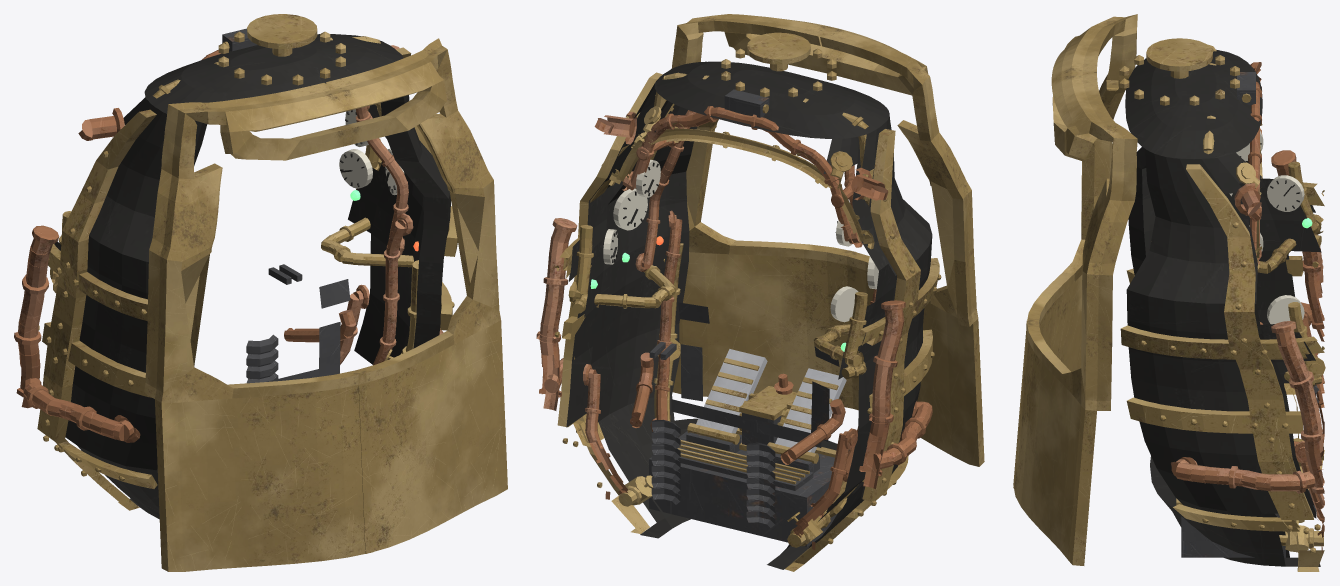
The model's file is cockpit_view.glb.
The picture shows the model from 3 angles, left to right: view 1: azimuth 30°, elevation 25°; view 2: azimuth 150°, elevation 25°; view 3: azimuth 270°, elevation 25°; orthographic projection. The views are drawn at different scales.
Visible parts, largest first — view 1: Screen_Frame.001, Cockpit_Interior; view 2: Cockpit_Interior, Screen_Frame.001; view 3: Cockpit_Interior, Screen_Frame.001.
Boxes of the visible parts, x1=… form: Screen_Frame.001: x1=144, y1=38, x2=507, y2=571; Cockpit_Interior: x1=14, y1=14, x2=457, y2=519; Cockpit_Interior: x1=536, y1=32, x2=941, y2=571; Screen_Frame.001: x1=671, y1=14, x2=984, y2=466; Cockpit_Interior: x1=1119, y1=38, x2=1325, y2=571; Screen_Frame.001: x1=1013, y1=14, x2=1137, y2=565.
Size of the model in its own units: 2.16 by 2.66 by 1.57.
9 materials, 6 textured.
